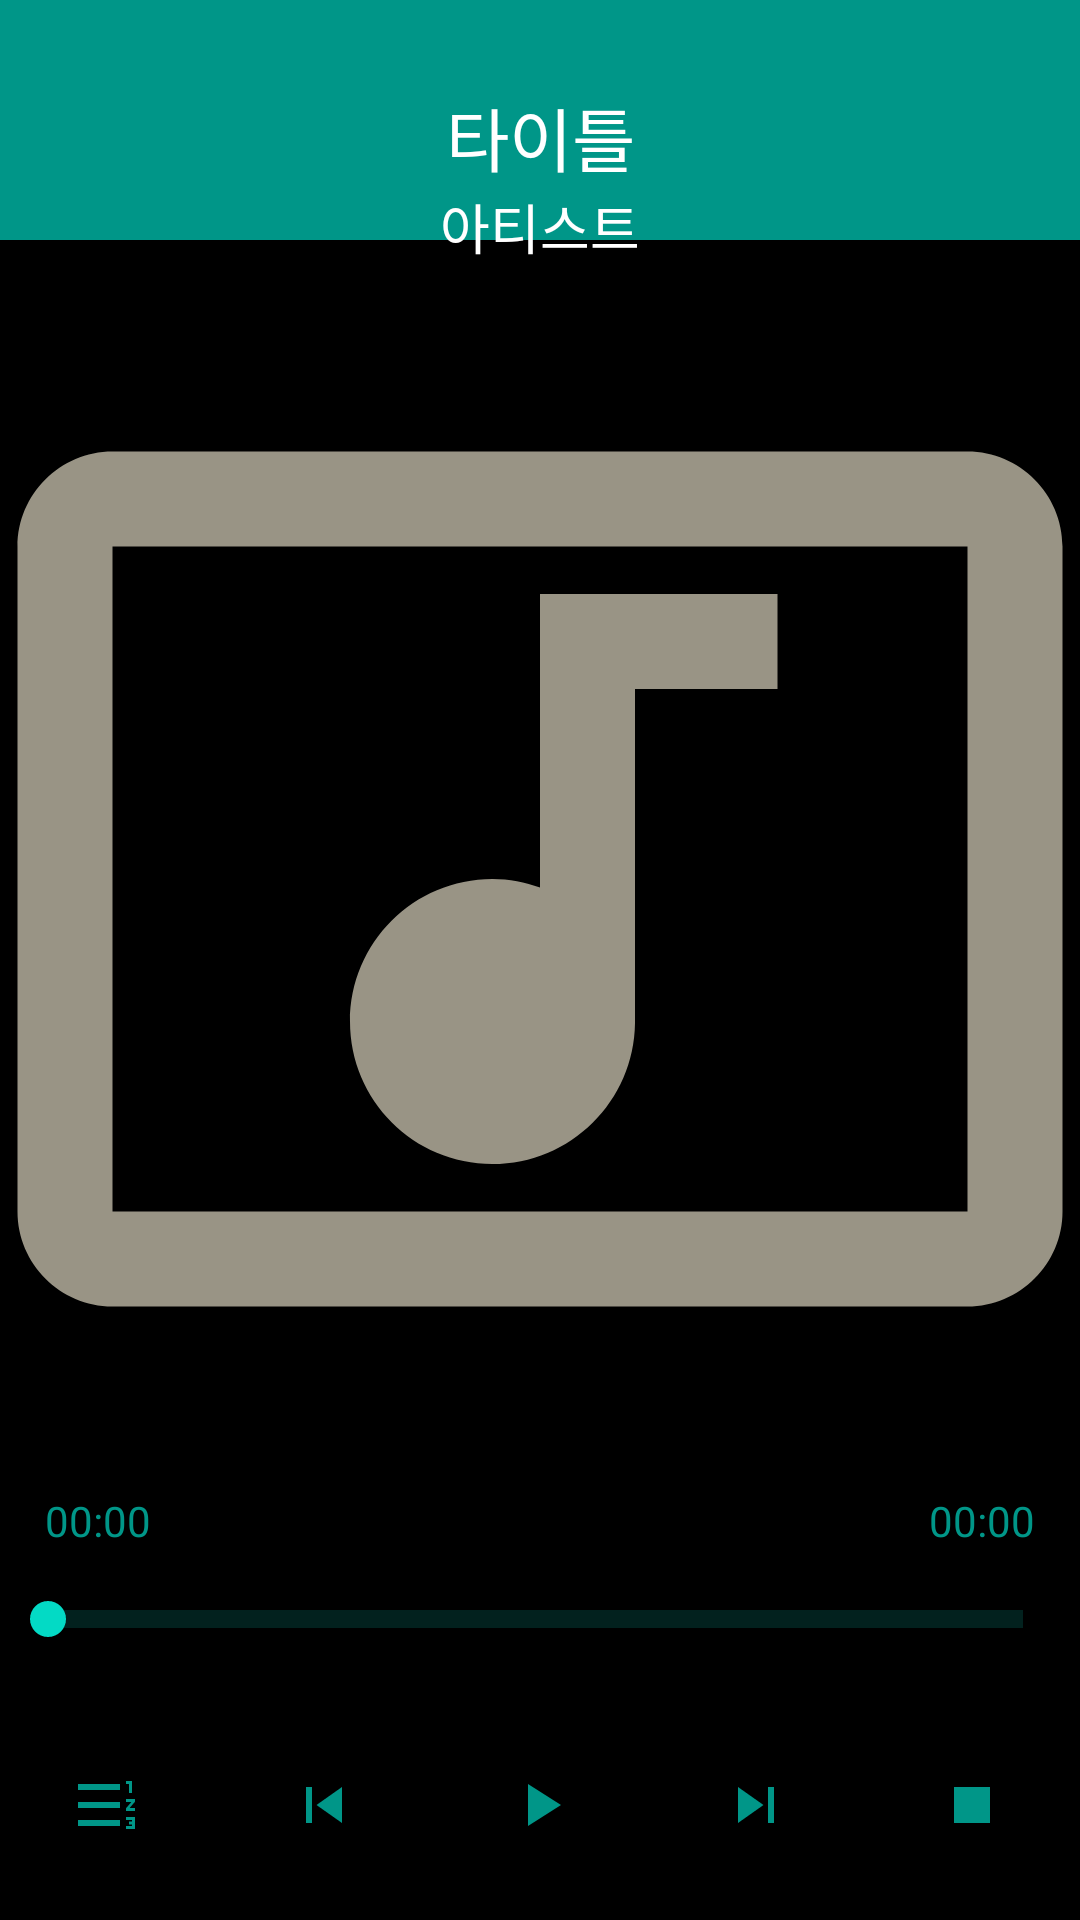

Where to tap for icons on this 1080 x 1920 app screen, as [x,y]:
list: [106,1805]
next: [756,1805]
play: [544,1805]
previous: [324,1805]
